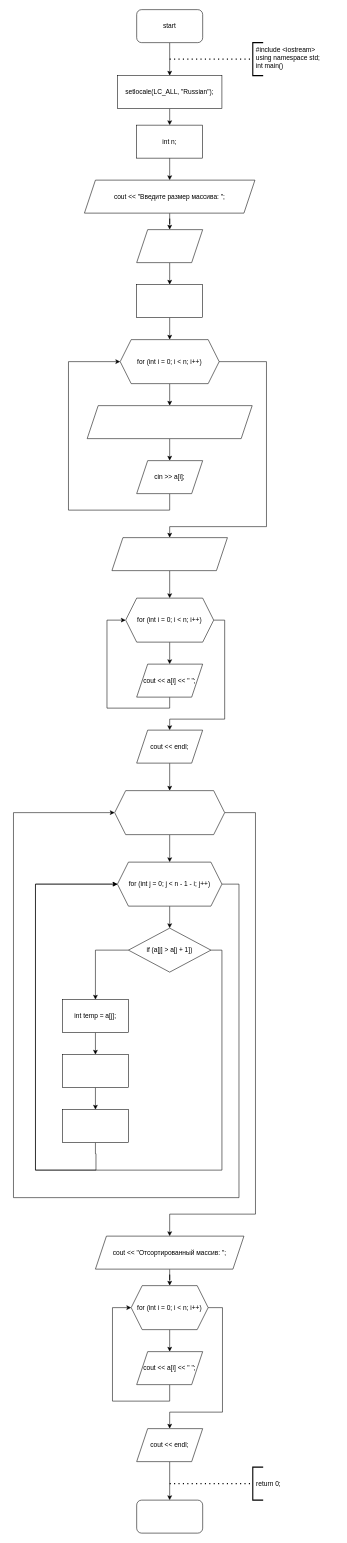
The diagram is 347 pixels wide and 1543 high, and some of its shapes have lost their labels. Here are the shapes that lost their labels. From the top down, the centre of each, then its label:
pixel 169 246: cin >> n;
pixel 169 301: int a[100];
pixel 169 422: cout << "Введите число номер " << i + 1 << ": ";
pixel 169 554: cout << "Исходный массив: ";
pixel 169 812: for (int i = 0; i < n - 1; i++)
pixel 95 1071: a[j] = a[j + 1];
pixel 95 1126: a[j + 1] = temp;
pixel 169 1516: end
